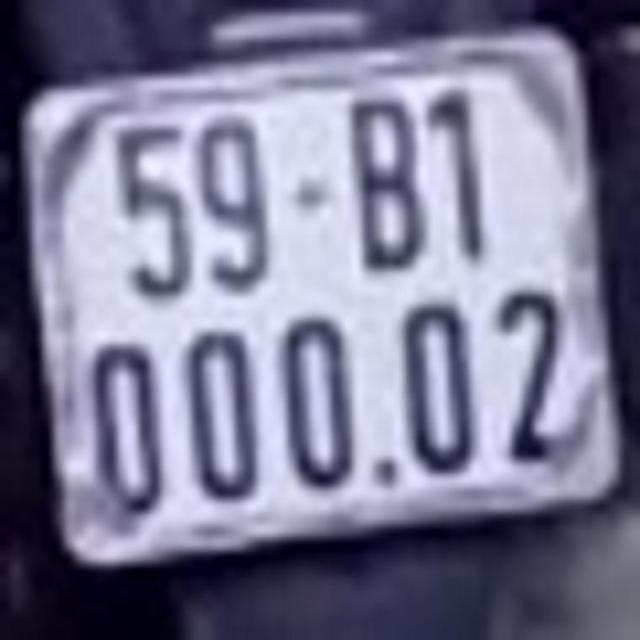0: (276, 310, 366, 490), (180, 324, 270, 498), (400, 299, 487, 476), (86, 337, 168, 520)
1: (431, 78, 498, 276)
2: (492, 284, 580, 468)
5: (106, 117, 196, 300)
9: (198, 108, 276, 303)
B: (340, 85, 427, 278)
